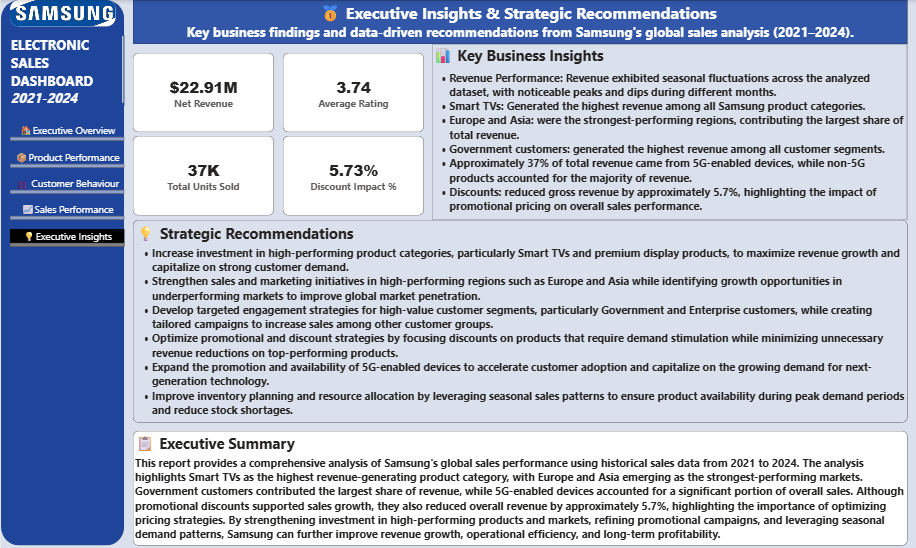

This screenshot's page, from the dashboard's own definition file:
{"tool":"powerbi","page":{"name":"💡Executive Insights","canvas":[5000,3000],"ordinal":4},"visuals":[{"type":"textbox","box":[720,0,4224,240],"z":0},{"type":"card","fields":{"Values":["My Measures.Net Revenue"]},"box":[720,288,768,431],"z":1000},{"type":"card","fields":{"Values":["My Measures.Total Units Sold"]},"box":[720,744,768,432],"z":2000},{"type":"card","fields":{"Values":["My Measures.Average Rating"]},"box":[1536,288,768,431],"z":3000},{"type":"card","fields":{"Values":["My Measures.Discount Impact %"]},"box":[1536,744,768,432],"z":4000},{"type":"textbox","box":[2352,240,2592,960],"z":5000},{"type":"textbox","box":[720,1200,4224,1104],"z":6000},{"type":"textbox","box":[720,2352,4224,624],"z":7000},{"type":"shape","box":[0,0,672,2976],"z":8000},{"type":"textbox","box":[48,192,624,384],"z":9000},{"type":"actionButton","title":"🏠Executive Overview","box":[48,672,624,96],"z":10000},{"type":"actionButton","title":"📦Product Performance","box":[48,816,624,96],"z":11000},{"type":"actionButton","title":"👥 Customer Behaviour","box":[48,960,624,96],"z":12000},{"type":"actionButton","title":"📈Sales Performance","box":[48,1104,624,96],"z":13000},{"type":"actionButton","title":"💡Executive Insights","box":[48,1248,624,96],"z":14000},{"type":"image","box":[48,0,576,144],"z":15000}]}

Visuals, with their boxes in screenshot pixels (x1, y1, x2, y2), scaled from the page's 5000x3000 canvas onto the 916x548 screenshot:
textbox: region(132, 0, 906, 44)
card - My Measures.Net Revenue: region(132, 53, 273, 131)
card - My Measures.Total Units Sold: region(132, 136, 273, 215)
card - My Measures.Average Rating: region(281, 53, 422, 131)
card - My Measures.Discount Impact %: region(281, 136, 422, 215)
textbox: region(431, 44, 906, 219)
textbox: region(132, 219, 906, 421)
textbox: region(132, 430, 906, 544)
shape: region(0, 0, 123, 544)
textbox: region(9, 35, 123, 105)
"🏠Executive Overview" actionButton: region(9, 123, 123, 140)
"📦Product Performance" actionButton: region(9, 149, 123, 167)
"👥 Customer Behaviour" actionButton: region(9, 175, 123, 193)
"📈Sales Performance" actionButton: region(9, 202, 123, 219)
"💡Executive Insights" actionButton: region(9, 228, 123, 246)
image: region(9, 0, 114, 26)
